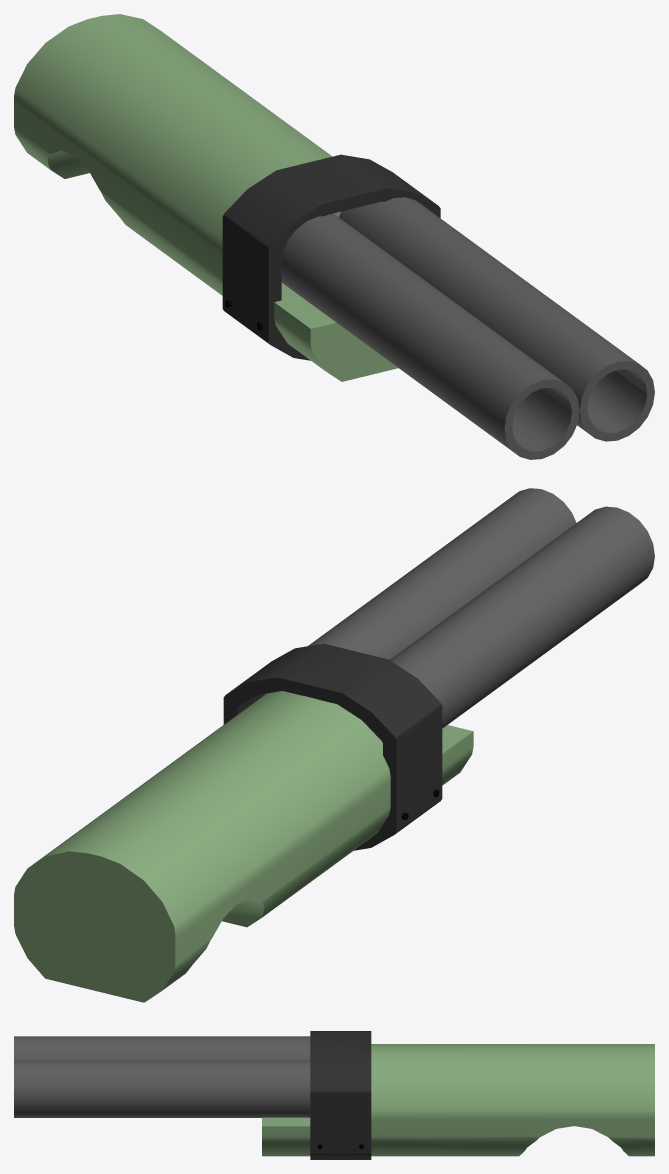
Rendered from shotgun.fbx.
3 views of the same model, one above another, from view 1: azimuth 30°, elevation 25°; view 2: azimuth 150°, elevation 25°; view 3: azimuth 270°, elevation 25° (orthographic). The views are drawn at different scales.
Visible parts, largest first — view 1: shotgun; view 2: shotgun; view 3: shotgun.
Boxes of the visible parts, x1,y1,x2,y2 form: shotgun: [14, 14, 654, 459]; shotgun: [14, 488, 654, 1002]; shotgun: [14, 1031, 654, 1159].
Bounding box in the file's own units: 1.23 × 1.05 × 5.79.
